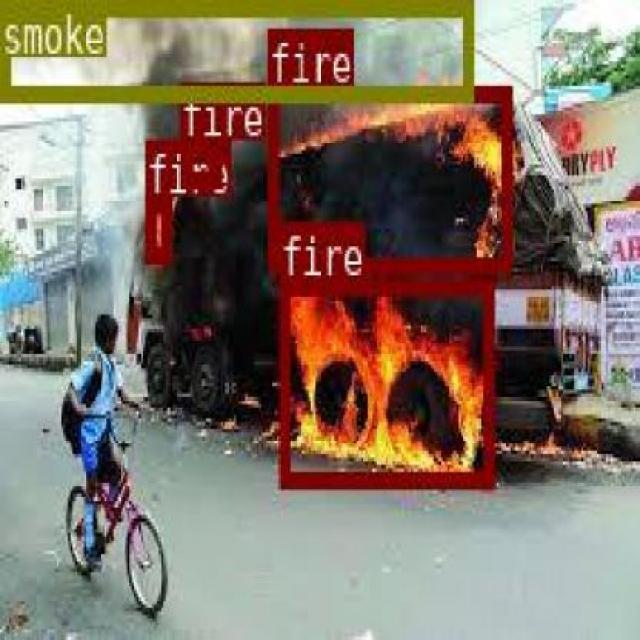fire: (268, 83, 510, 271), (277, 276, 492, 486), (178, 137, 219, 185), (144, 196, 168, 258)
smoke: (0, 0, 472, 100)
